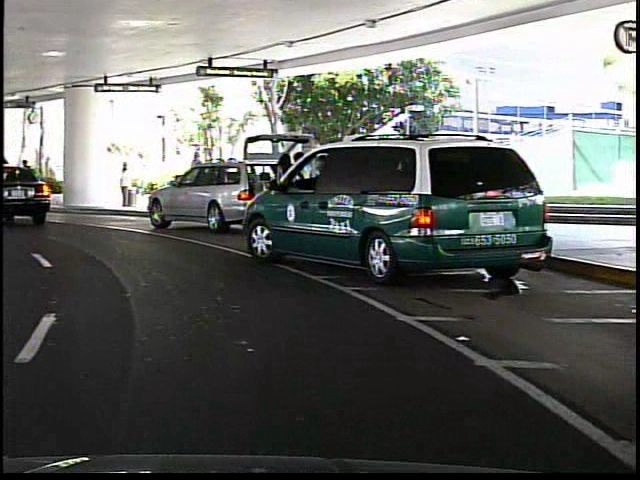person: (250, 149, 290, 227)
